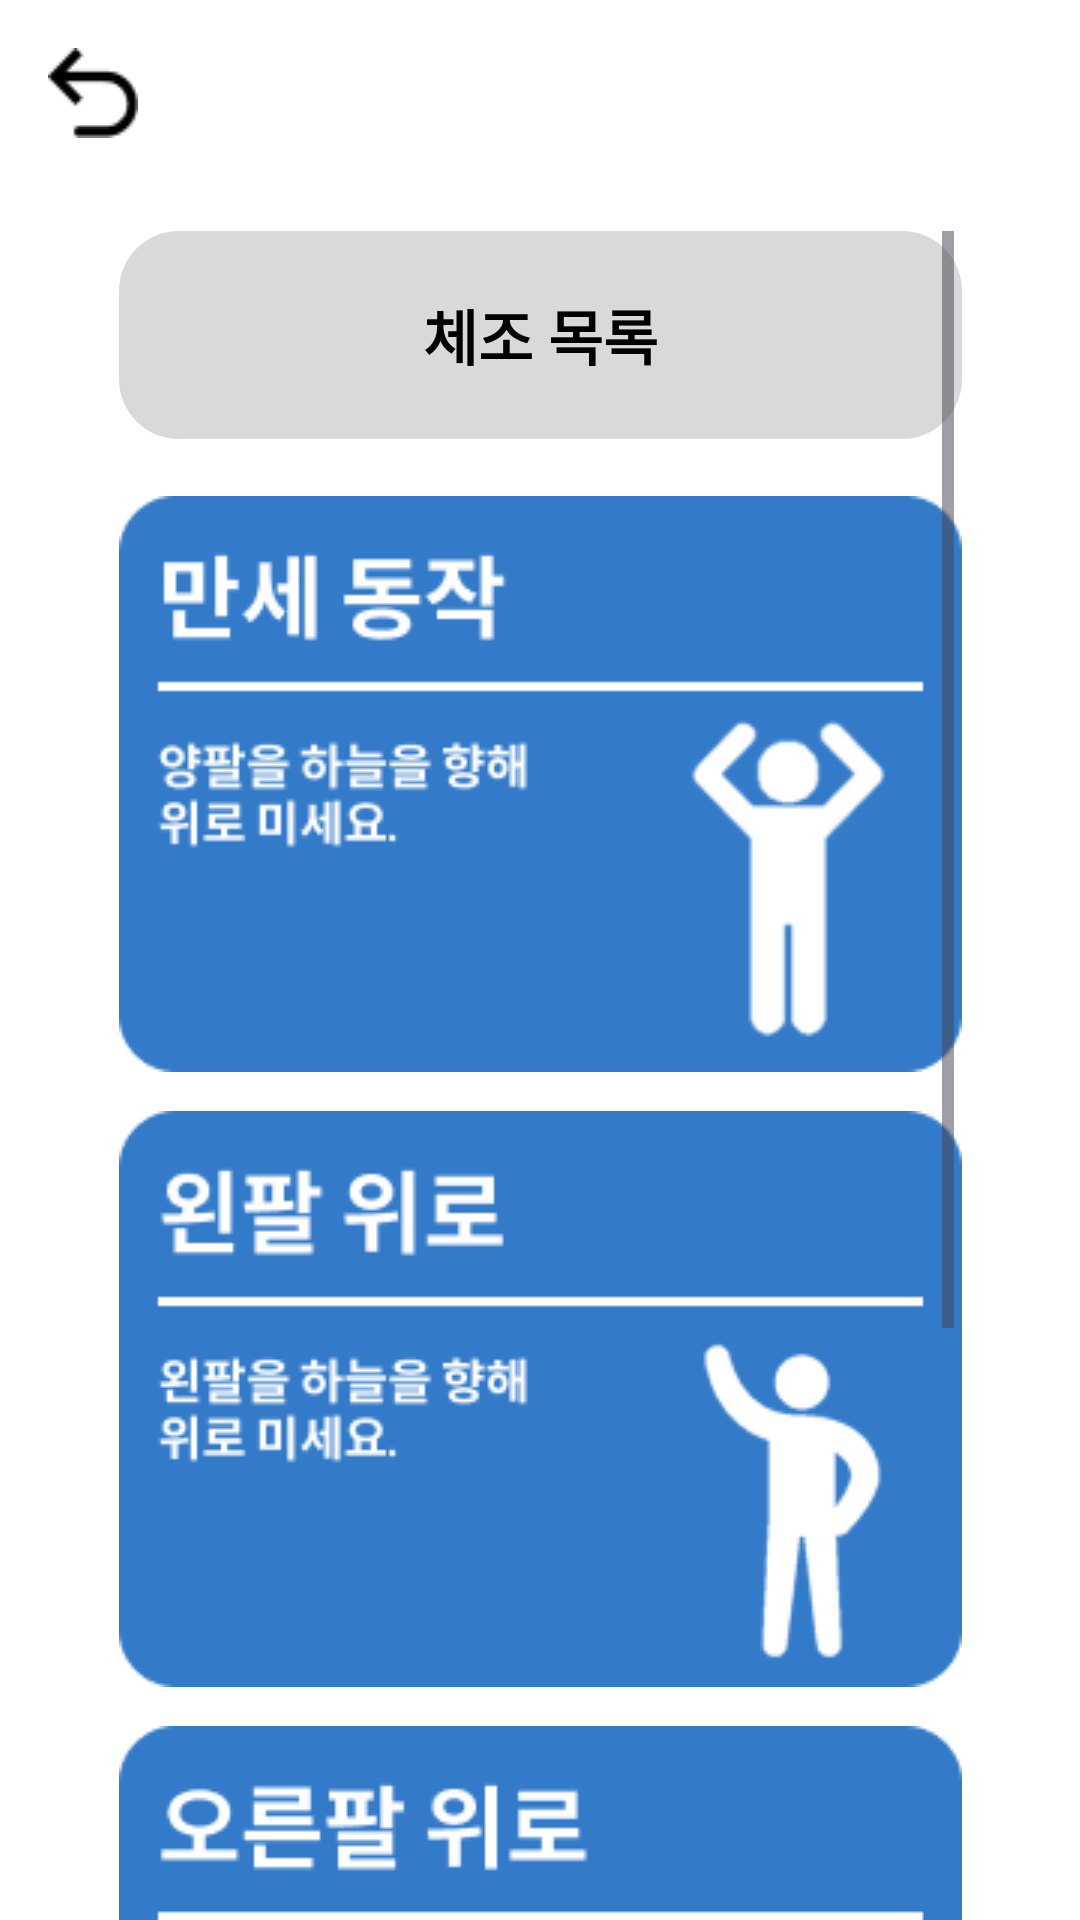

Icon bounding boxes for this 1080px x 1920px phone screenshot, format (x1, y1, x2, y2):
뒤로가기 버튼: (48, 48, 138, 138)
